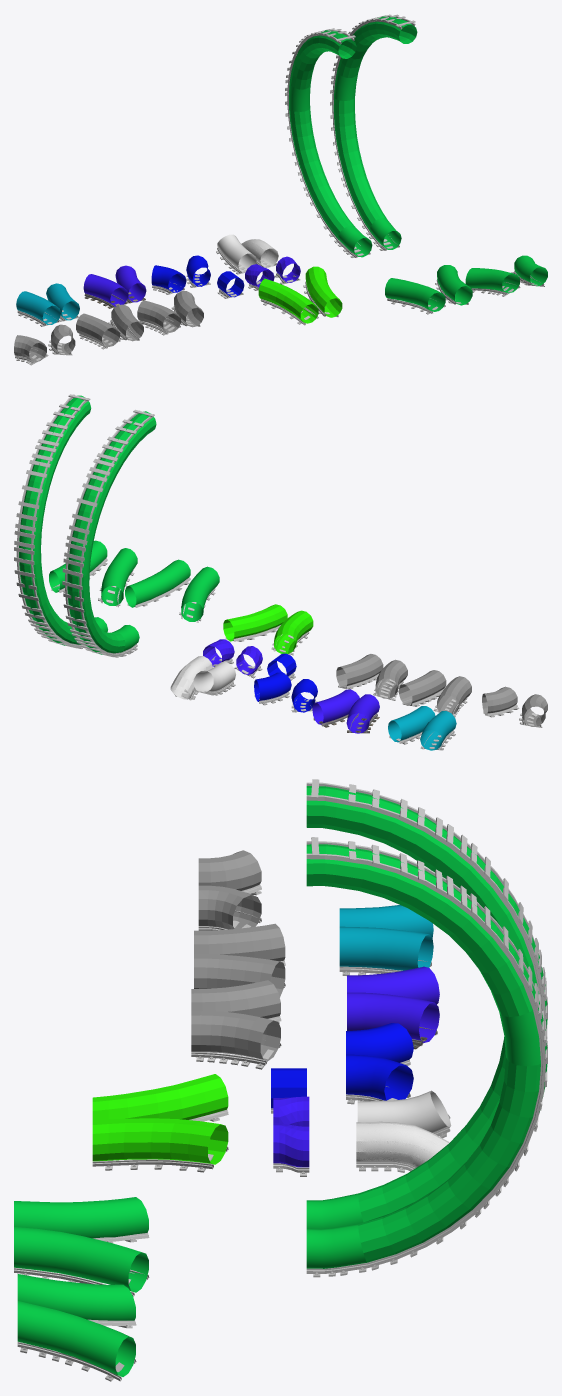
File: RAILPARTS0512.FBX
The picture shows the model from 3 angles, top to bottom: view 1: azimuth 30°, elevation 25°; view 2: azimuth 150°, elevation 25°; view 3: azimuth 270°, elevation 25°; orthographic projection. The views are drawn at different scales.
Parts seen in each view (by area): view 1: Cylinder196, Cylinder141, Cylinder066, Cylinder197, rail stright264, rail stright208, Cylinder199, Cylinder210, Cylinder203, Cylinder204, Cylinder206, Cylinder080 (+13 smaller); view 2: Cylinder196, Cylinder141, rail stright264, rail stright208, Cylinder080, Cylinder199, Cylinder210, Cylinder197, Cylinder066, Cylinder147, Cylinder026, Cylinder154 (+15 smaller); view 3: Cylinder141, Cylinder196, rail stright208, Cylinder199, Cylinder080, Cylinder184, rail stright264, Cylinder197, Cylinder066, Cylinder210, Cylinder026, Cylinder154 (+18 smaller).
Boxes of the visible parts, x1=… form: Cylinder196: x1=289, y1=30, x2=372, y2=257; Cylinder141: x1=333, y1=16, x2=417, y2=249; Cylinder066: x1=258, y1=278, x2=318, y2=323; Cylinder197: x1=385, y1=278, x2=445, y2=311; rail stright264: x1=285, y1=28, x2=370, y2=257; rail stright208: x1=330, y1=14, x2=415, y2=250; Cylinder199: x1=305, y1=266, x2=342, y2=317; Cylinder210: x1=465, y1=268, x2=519, y2=293; Cylinder203: x1=16, y1=291, x2=60, y2=324; Cylinder204: x1=83, y1=274, x2=128, y2=306; Cylinder206: x1=76, y1=313, x2=119, y2=346; Cylinder080: x1=437, y1=265, x2=472, y2=305; Cylinder196: x1=67, y1=411, x2=156, y2=654; Cylinder141: x1=19, y1=395, x2=107, y2=645; rail stright264: x1=62, y1=409, x2=154, y2=657; rail stright208: x1=14, y1=394, x2=90, y2=648; Cylinder080: x1=125, y1=559, x2=190, y2=607; Cylinder199: x1=223, y1=604, x2=287, y2=641; Cylinder210: x1=101, y1=548, x2=137, y2=605; Cylinder197: x1=181, y1=566, x2=219, y2=621; Cylinder066: x1=274, y1=610, x2=313, y2=653; Cylinder147: x1=399, y1=670, x2=446, y2=705; Cylinder026: x1=388, y1=706, x2=435, y2=742; Cylinder154: x1=336, y1=654, x2=383, y2=688; Cylinder141: x1=306, y1=844, x2=547, y2=1268; Cylinder196: x1=306, y1=786, x2=547, y2=1228; rail stright208: x1=306, y1=837, x2=547, y2=1277; Cylinder199: x1=92, y1=1118, x2=228, y2=1164; Cylinder080: x1=14, y1=1227, x2=148, y2=1292; Cylinder184: x1=17, y1=1301, x2=135, y2=1376; rail stright264: x1=306, y1=779, x2=547, y2=1038; Cylinder197: x1=14, y1=1197, x2=148, y2=1238; Cylinder066: x1=92, y1=1074, x2=228, y2=1120; Cylinder210: x1=17, y1=1274, x2=135, y2=1320; Cylinder026: x1=339, y1=926, x2=433, y2=970; Cylinder154: x1=191, y1=1011, x2=280, y2=1060.
Bounding box in the file's own units: 3741 × 1710 × 1783.
